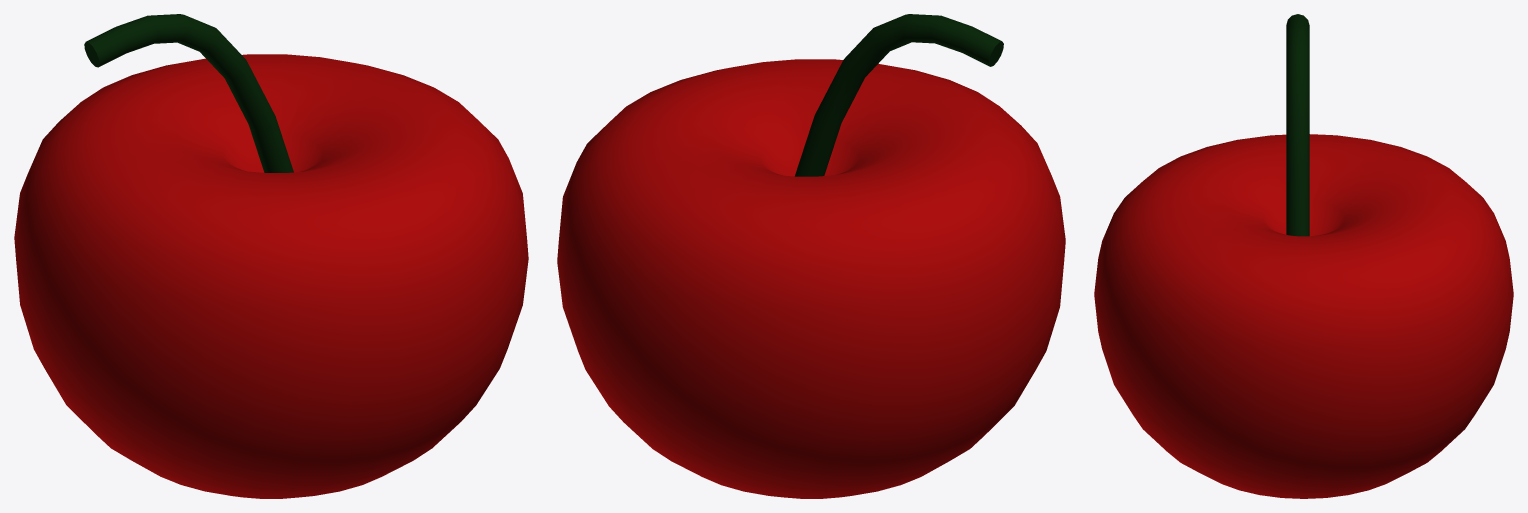
Rendered from apple.FBX.
3 views of the same model, side by side, from view 1: azimuth 30°, elevation 25°; view 2: azimuth 150°, elevation 25°; view 3: azimuth 270°, elevation 25° (orthographic). The views are drawn at different scales.
Parts seen in each view (by area): view 1: Sphere005, Line005; view 2: Sphere005, Line005; view 3: Sphere005, Line005.
Boxes of the visible parts, bbox=[...] form: Sphere005: bbox=[14, 54, 528, 498]; Line005: bbox=[84, 14, 293, 172]; Sphere005: bbox=[557, 59, 1065, 498]; Line005: bbox=[794, 14, 1003, 176]; Sphere005: bbox=[1094, 134, 1513, 498]; Line005: bbox=[1286, 14, 1309, 236].
Size of the model in its own units: 9.18 by 9.55 by 9.18.
